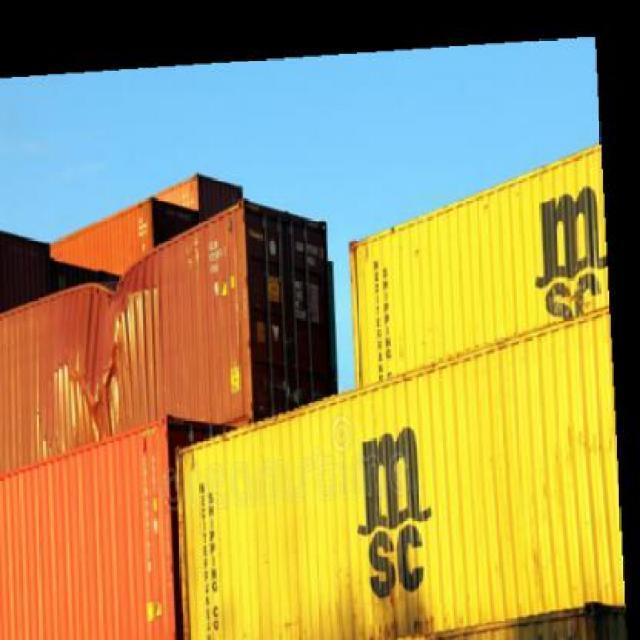dent: (53, 261, 135, 404)
